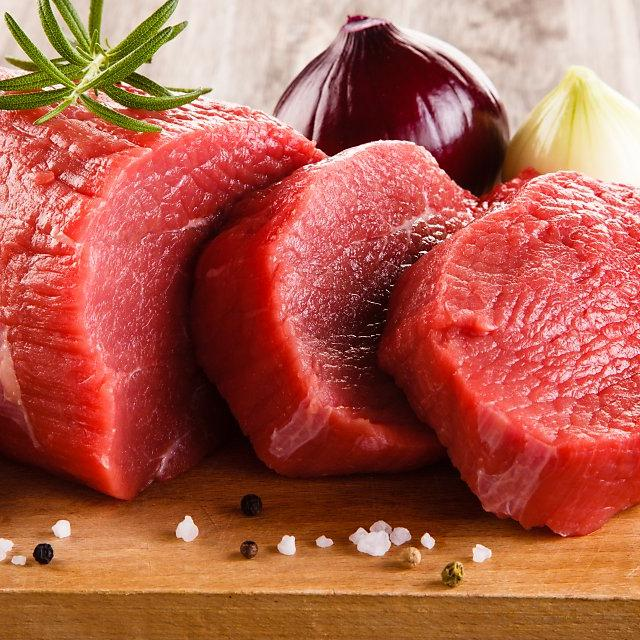beef: (0, 50, 328, 498), (191, 137, 508, 475), (380, 167, 640, 535)
